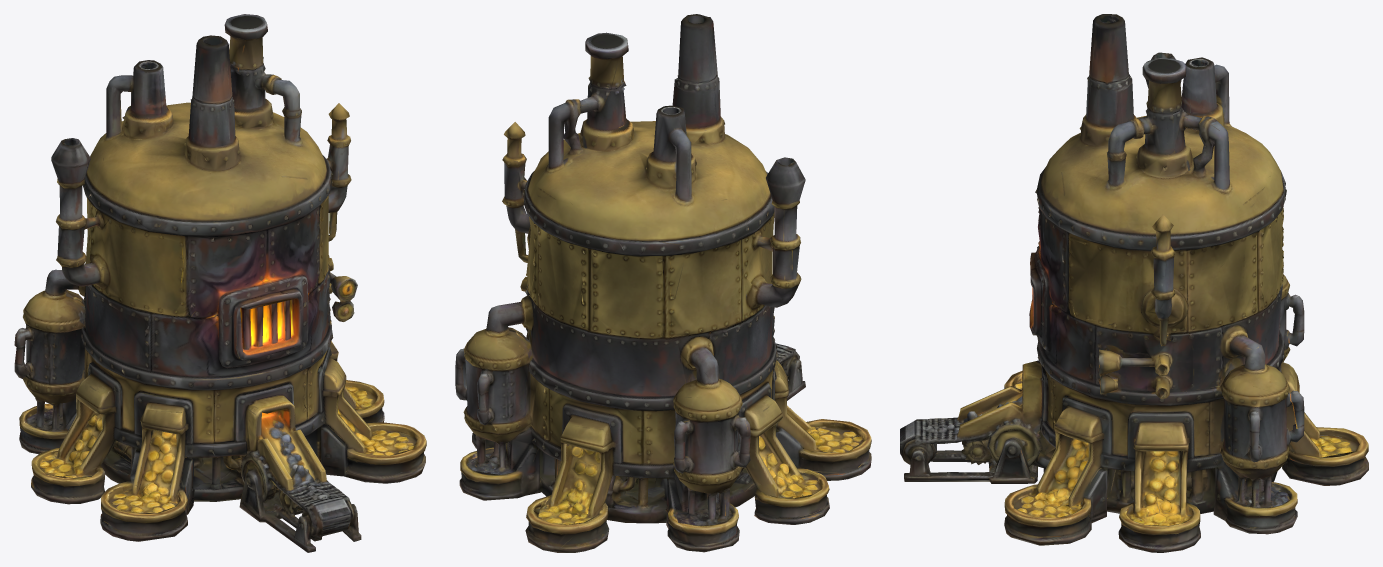
File: foundry_meshy_v01_prepared.fbx
3 views of the same model, side by side, from view 1: azimuth 30°, elevation 25°; view 2: azimuth 150°, elevation 25°; view 3: azimuth 270°, elevation 25° (orthographic).
Parts seen in each view (by area): view 1: Mesh1.0; view 2: Mesh1.0; view 3: Mesh1.0.
Part boxes in pixels (x1,y1,x2,y2): Mesh1.0: [14, 14, 426, 552]; Mesh1.0: [455, 14, 871, 552]; Mesh1.0: [900, 14, 1368, 552].
Bounding box in the file's own units: 103 × 125 × 121.
